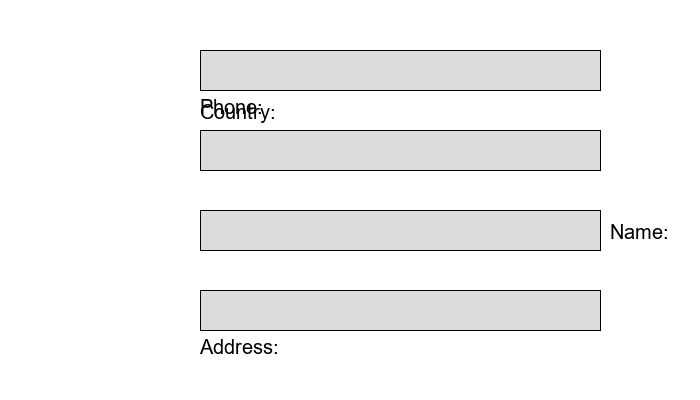Label: (200, 100, 270, 119), (200, 335, 274, 350), (200, 95, 257, 110), (610, 220, 663, 235)
Textbox: (200, 50, 600, 90), (200, 130, 600, 170), (200, 210, 600, 250), (200, 290, 600, 330)
